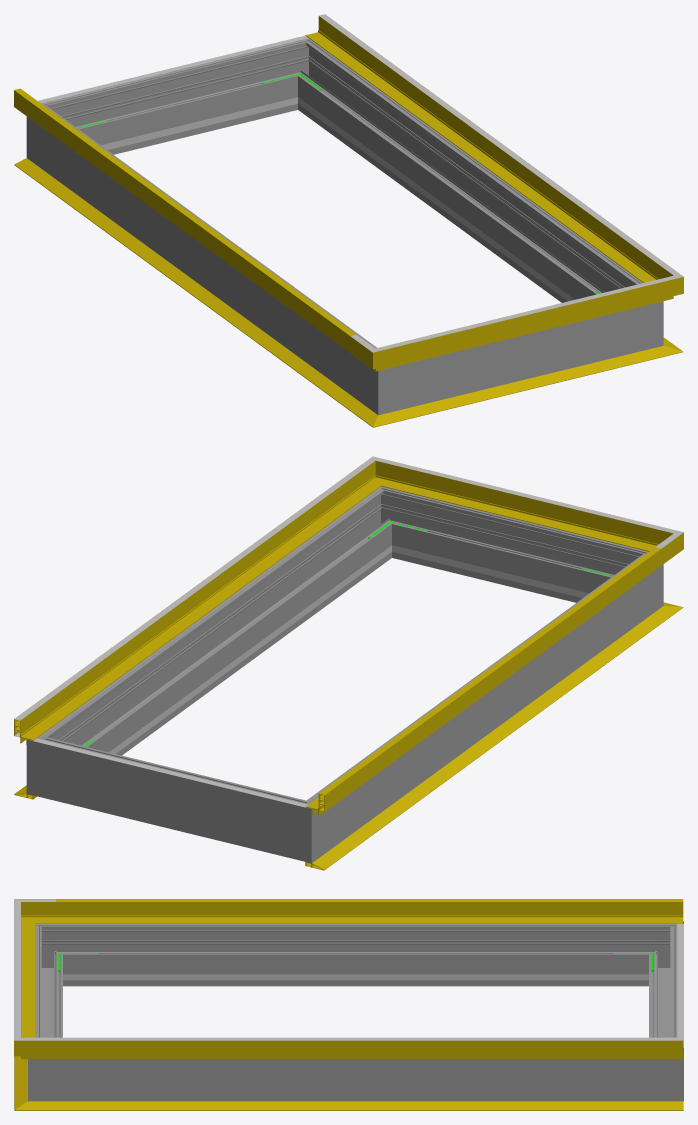
3 renders of one model, top to bottom at view 1: azimuth 30°, elevation 25°; view 2: azimuth 150°, elevation 25°; view 3: azimuth 270°, elevation 25°, orthographic. The views are drawn at different scales.
Parts seen in each view (by area): view 1: 3DGeom-298, 3DGeom-269, 3DGeom-277, 3DGeom-58, 3DGeom-299, 3DGeom-50, 3DGeom-38, 3DGeom-56, 3DGeom-28, 3DGeom-271, 3DGeom-71, 3DGeom-64 (+10 smaller); view 2: 3DGeom-298, 3DGeom-269, 3DGeom-299, 3DGeom-277, 3DGeom-58, 3DGeom-50, 3DGeom-56, 3DGeom-38, 3DGeom-279, 3DGeom-285, 3DGeom-71, 3DGeom-64 (+8 smaller); view 3: 3DGeom-269, 3DGeom-298, 3DGeom-50, 3DGeom-58, 3DGeom-30, 3DGeom-233, 3DGeom-64, 3DGeom-277, 3DGeom-299, 3DGeom-71, 3DGeom-285, 3DGeom-291 (+9 smaller).
Boxes of the visible parts, left/top/right/bottom form: 3DGeom-298: left=301, top=52, right=633, bottom=302; 3DGeom-269: left=49, top=117, right=368, bottom=398; 3DGeom-277: left=69, top=46, right=291, bottom=154; 3DGeom-58: left=305, top=15, right=654, bottom=281; 3DGeom-299: left=417, top=311, right=624, bottom=405; 3DGeom-50: left=14, top=88, right=355, bottom=352; 3DGeom-38: left=14, top=158, right=362, bottom=410; 3DGeom-56: left=408, top=286, right=644, bottom=363; 3DGeom-28: left=405, top=352, right=644, bottom=418; 3DGeom-271: left=356, top=341, right=417, bottom=415; 3DGeom-71: left=14, top=88, right=356, bottom=335; 3DGeom-64: left=319, top=14, right=660, bottom=261; 3DGeom-298: left=55, top=500, right=388, bottom=755; 3DGeom-269: left=321, top=565, right=640, bottom=846; 3DGeom-299: left=398, top=494, right=620, bottom=602; 3DGeom-277: left=65, top=743, right=279, bottom=853; 3DGeom-58: left=14, top=474, right=369, bottom=744; 3DGeom-50: left=305, top=549, right=661, bottom=816; 3DGeom-56: left=400, top=468, right=641, bottom=547; 3DGeom-38: left=305, top=617, right=660, bottom=870; 3DGeom-279: left=273, top=789, right=334, bottom=863; 3DGeom-285: left=26, top=724, right=72, bottom=802; 3DGeom-71: left=319, top=547, right=660, bottom=795; 3DGeom-64: left=14, top=473, right=356, bottom=721; 3DGeom-269: left=69, top=923, right=641, bottom=986; 3DGeom-298: left=69, top=1059, right=641, bottom=1101; 3DGeom-50: left=56, top=899, right=683, bottom=923; 3DGeom-58: left=56, top=1040, right=683, bottom=1059; 3DGeom-30: left=56, top=1101, right=683, bottom=1110; 3DGeom-233: left=103, top=974, right=608, bottom=980; 3DGeom-64: left=56, top=1037, right=683, bottom=1040; 3DGeom-277: left=649, top=938, right=677, bottom=1037; 3DGeom-299: left=35, top=938, right=62, bottom=1037; 3DGeom-71: left=56, top=899, right=683, bottom=901; 3DGeom-285: left=642, top=1033, right=683, bottom=1101; 3DGeom-291: left=28, top=1033, right=69, bottom=1101.
Bounding box in the file's own units: 1.22 × 0.2831 × 2.44.
